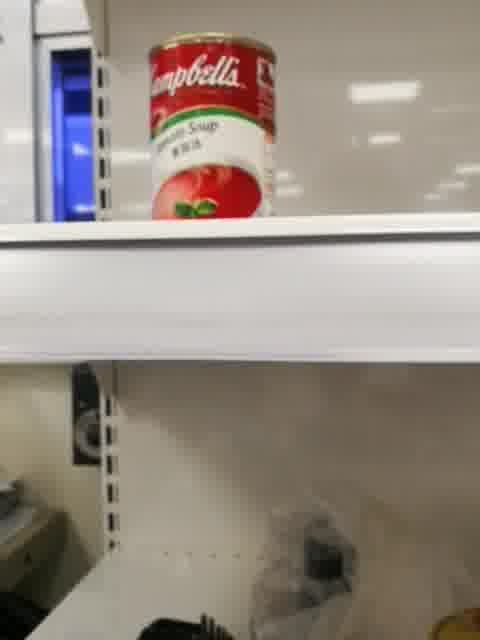tomatosoup: (148, 29, 279, 222)
